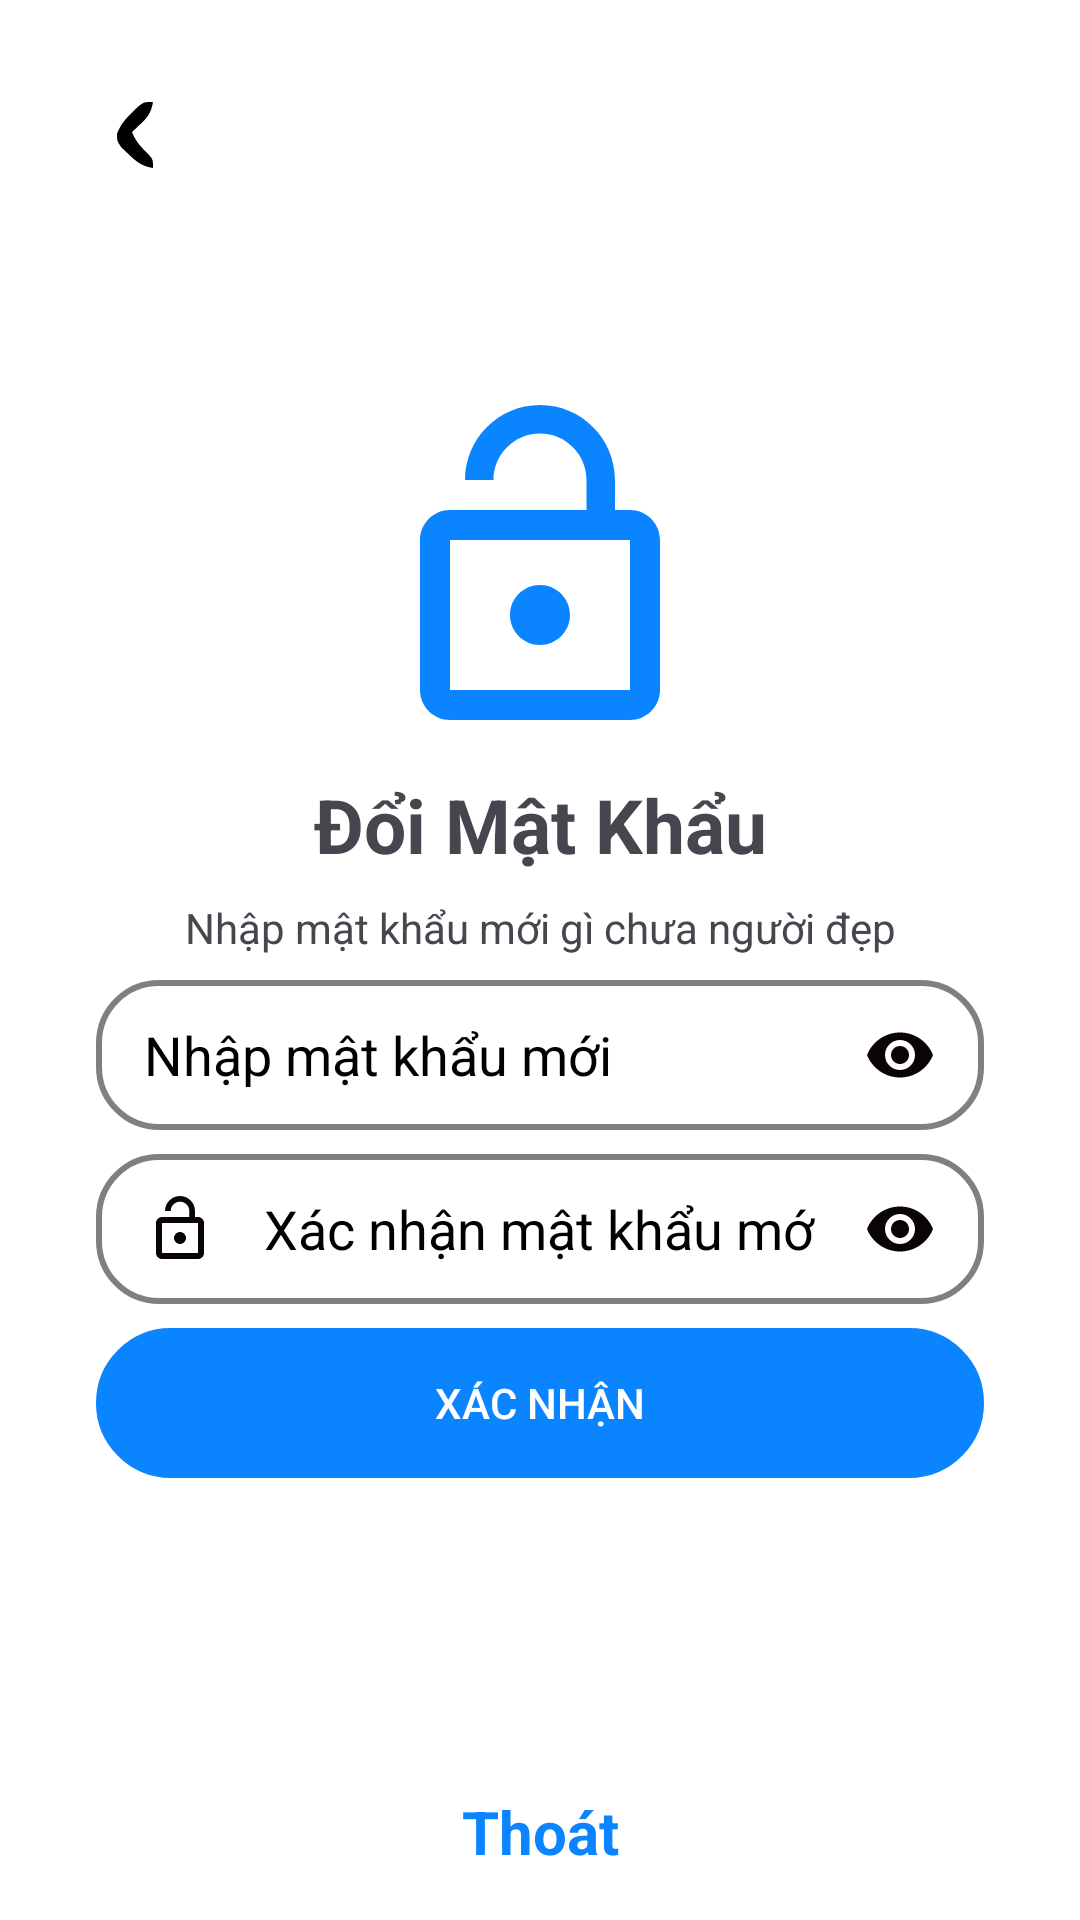

Screen size 1080px x 1920px. Icon name, then its box in pixels as (x1=x1, y1=y1, x2=x2, y2=y2):
arrowback: (x1=117, y1=102, x2=153, y2=168)
lock open: (x1=420, y1=405, x2=660, y2=720)
